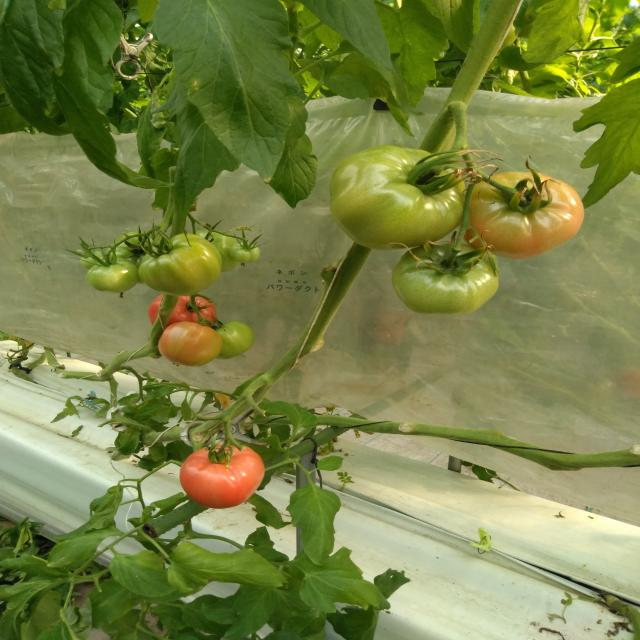yesil: (326, 120, 456, 240), (92, 220, 246, 286), (406, 260, 488, 305)
